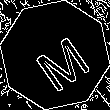M_NW: (22, 21, 88, 89)
